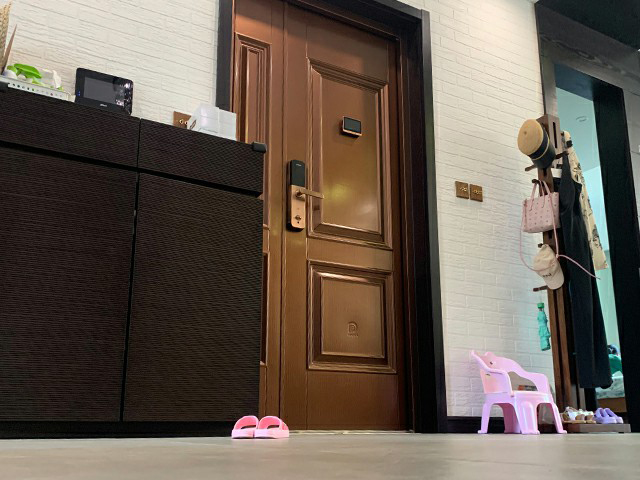cabinet: (1, 79, 267, 440)
slippers: (256, 413, 291, 439), (231, 413, 259, 439), (596, 404, 626, 424)
stool: (469, 347, 568, 434)
